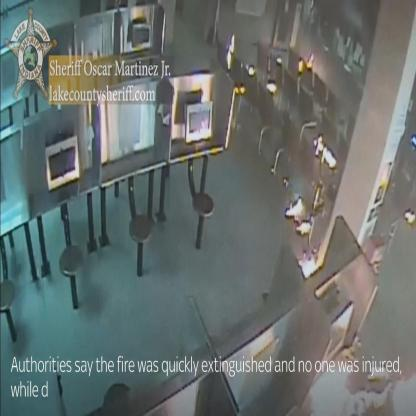fire: (311, 364, 416, 416), (285, 197, 311, 235), (313, 134, 337, 168), (298, 247, 319, 278)
